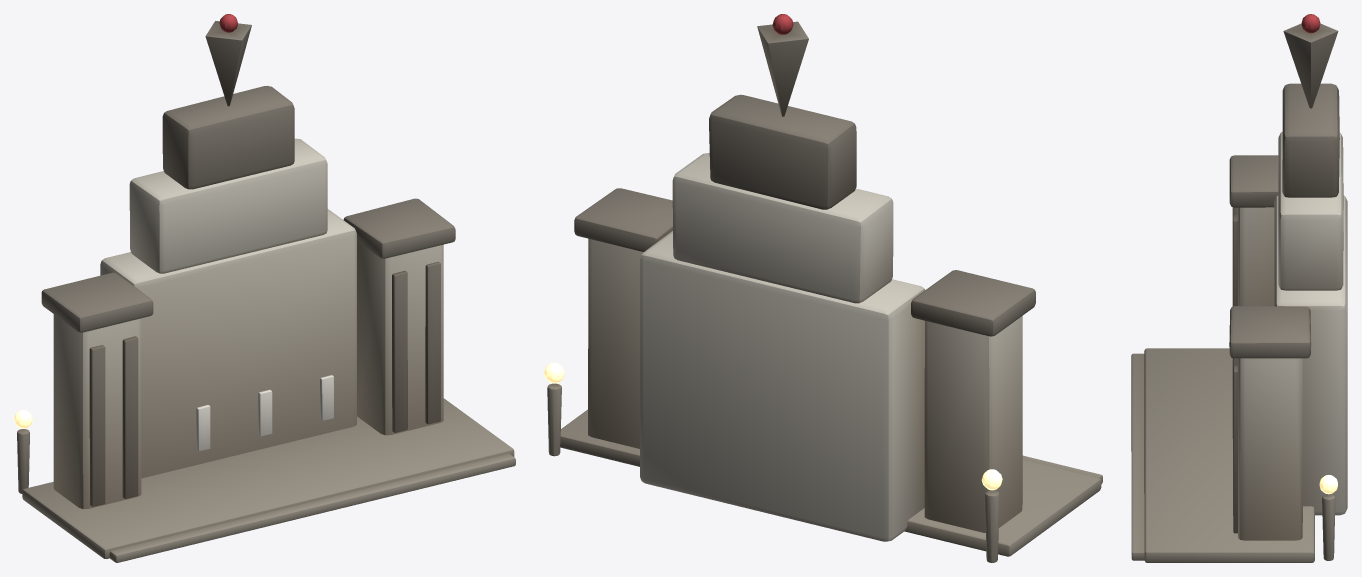
3 views of the same model, side by side, from view 1: azimuth 30°, elevation 25°; view 2: azimuth 150°, elevation 25°; view 3: azimuth 270°, elevation 25° (orthographic). The views are drawn at different scales.
Parts seen in each view (by area): view 1: gate_527f3d3a; view 2: gate_527f3d3a; view 3: gate_527f3d3a.
Boxes of the visible parts, bbox=[...] form: gate_527f3d3a: bbox=[14, 14, 515, 562]; gate_527f3d3a: bbox=[544, 14, 1102, 562]; gate_527f3d3a: bbox=[1131, 14, 1347, 562].
Size of the model in its own units: 5.98 by 6.07 by 2.66.
